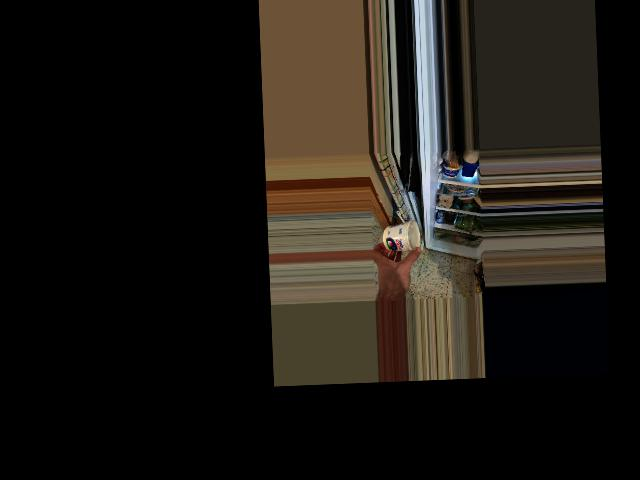cotage: (378, 219, 423, 260)
